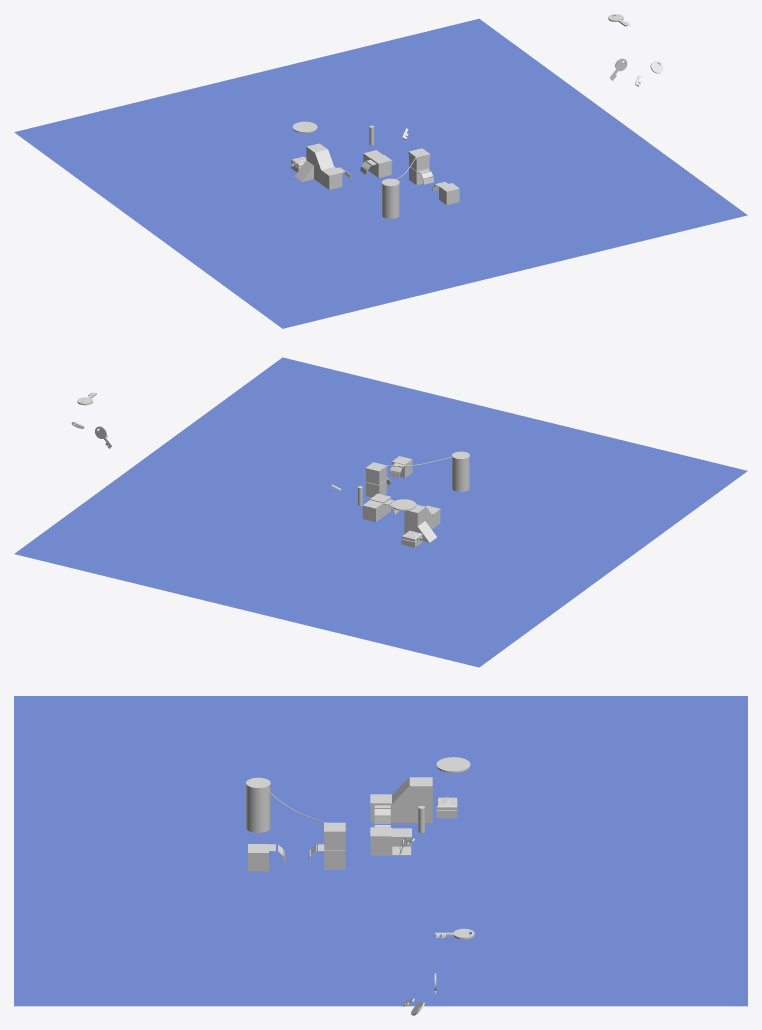
File: 裸眼3d桌游.fbx
The picture shows the model from 3 angles, top to bottom: view 1: azimuth 30°, elevation 25°; view 2: azimuth 150°, elevation 25°; view 3: azimuth 270°, elevation 25°; orthographic projection. The views are drawn at different scales.
Visible parts, largest first — view 1: 平面, 柱体.009; view 2: 平面, 柱体.009; view 3: 平面, 柱体.009, Cube.010, Cube.028.
Boxes of the visible parts, x1,y1,x2,y2 form: 平面: (14, 18, 747, 328); 柱体.009: (382, 178, 399, 218); 平面: (14, 357, 747, 667); 柱体.009: (452, 451, 469, 491); 平面: (14, 696, 747, 1006); 柱体.009: (246, 777, 270, 832); Cube.010: (248, 844, 268, 871); Cube.028: (412, 777, 432, 804).
Bounding box in the file's own units: 4913 × 1051 × 4331.
